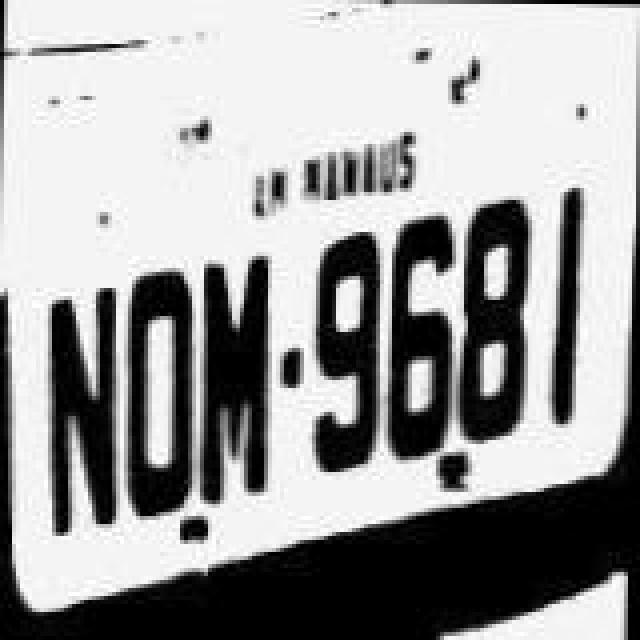1: (532, 152, 612, 440)
6: (374, 200, 466, 484)
8: (444, 186, 540, 486)
9: (304, 218, 392, 502)
M: (190, 246, 278, 542)
N: (26, 266, 122, 558)
O: (114, 258, 202, 554)
